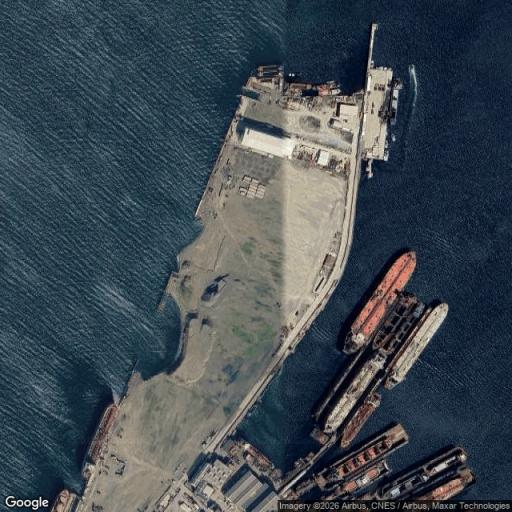ship: (344, 252, 416, 353), (315, 424, 408, 487), (384, 304, 447, 388), (324, 350, 386, 433), (380, 447, 467, 499), (321, 460, 391, 499), (340, 393, 380, 447), (416, 468, 475, 500), (88, 404, 118, 463), (240, 439, 276, 470), (50, 489, 77, 511), (389, 79, 402, 124), (409, 64, 420, 104), (309, 426, 330, 445), (255, 64, 282, 72), (316, 82, 340, 89), (255, 71, 281, 77), (320, 88, 341, 94), (384, 151, 390, 160), (391, 135, 396, 144), (385, 141, 389, 149)
